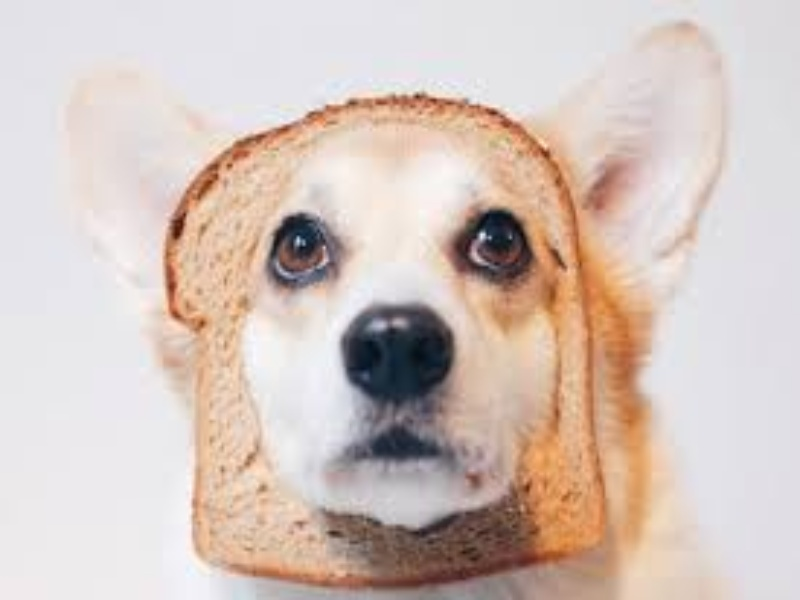dog: (126, 88, 702, 568)
